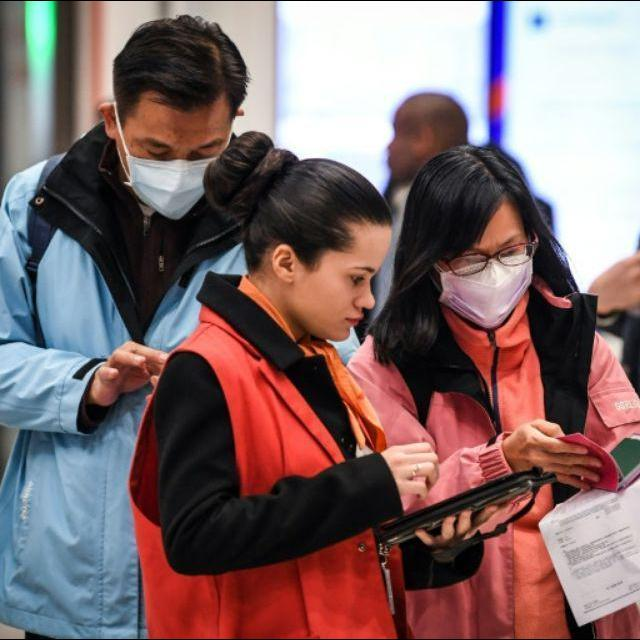Mask: (112, 118, 234, 223), (434, 256, 536, 328)
NO-Hardhat: (237, 157, 398, 236), (107, 18, 241, 107), (409, 141, 521, 220), (393, 93, 467, 127)
NO-Mask: (294, 295, 360, 340), (382, 154, 420, 179)
NO-Safety Vest: (3, 151, 243, 614), (149, 325, 404, 639), (377, 323, 592, 639)
Person: (127, 129, 500, 639), (0, 16, 251, 639), (347, 139, 640, 638), (578, 13, 640, 639), (380, 92, 470, 197)
